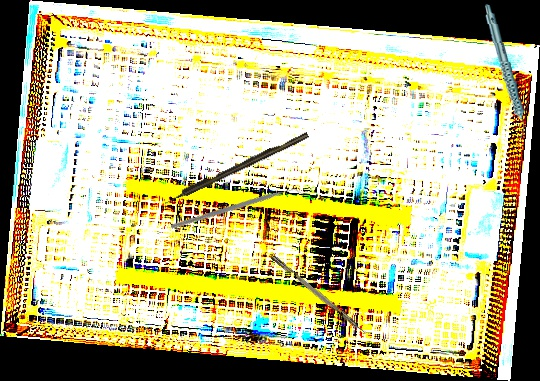Chopper: (169, 141, 306, 280), (271, 250, 374, 339)
Handpiece: (484, 2, 527, 141)
Hook Surgical: (162, 131, 310, 206)
